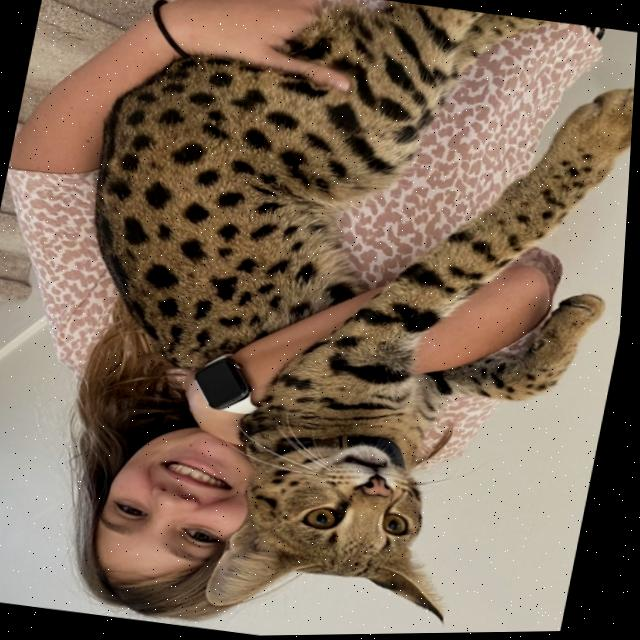Savannah: (13, 0, 640, 639)
